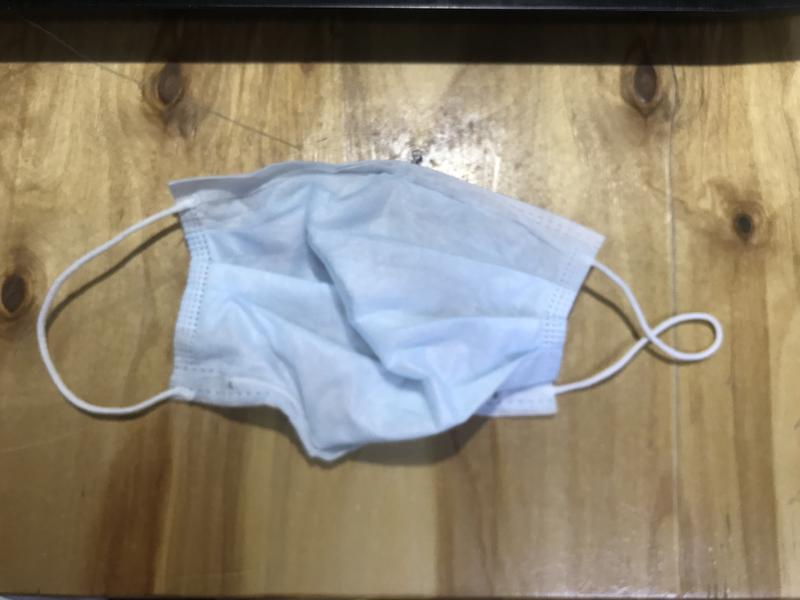medical_mask: (35, 163, 723, 458)
